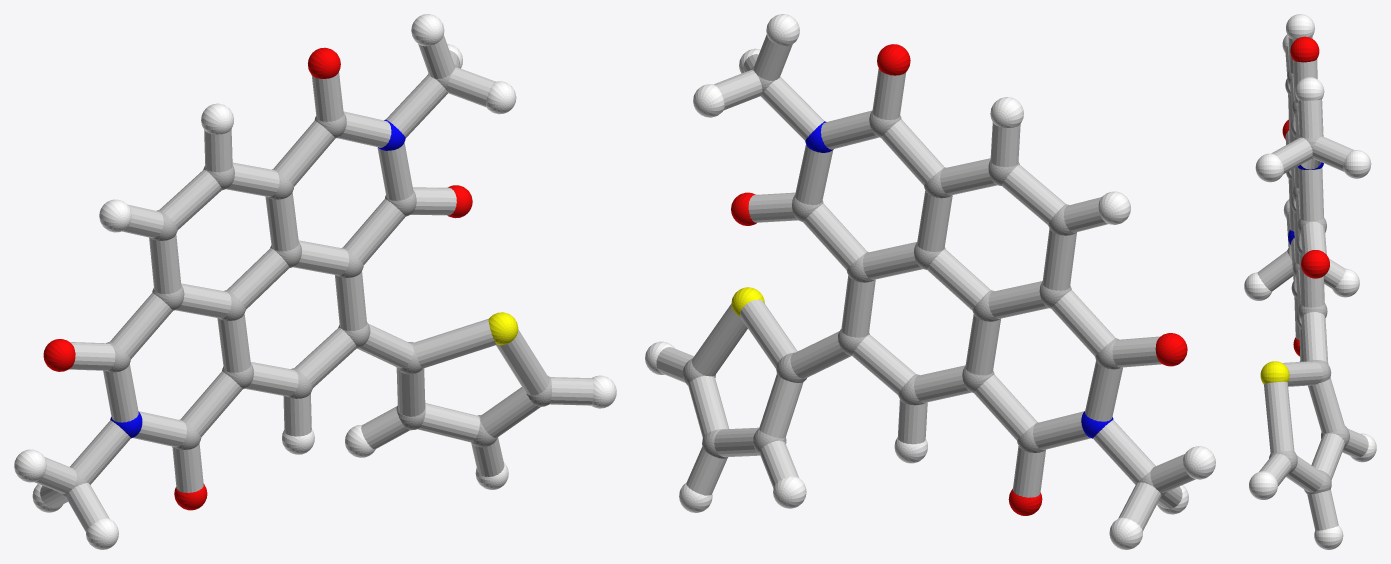
File: Dimethyl_Naphthalene_Dicarboximide_Phi_10_Theta_210_Thiophene.glb
3 renders of one model, left to right at view 1: azimuth 30°, elevation 25°; view 2: azimuth 150°, elevation 25°; view 3: azimuth 270°, elevation 25°, orthographic. The views are drawn at different scales.
Visible parts, largest first — view 1: grp14119, grp7241, grp1, grp12309, grp13757, grp11585; view 2: grp14119, grp7241, grp1, grp12309, grp11585; view 3: grp14119, grp7241, grp1, grp12309, grp13757.
Boxes of the visible parts, box(x1,y1,x2,y2) form: grp14119: box(34, 35, 593, 531); grp7241: box(14, 14, 616, 549); grp1: box(60, 64, 551, 497); grp12309: box(43, 47, 472, 510); grp13757: box(488, 312, 518, 345); grp11585: box(110, 119, 405, 438); grp14119: box(656, 35, 1195, 531); grp7241: box(645, 14, 1215, 549); grp1: box(682, 67, 1165, 496); grp12309: box(731, 44, 1187, 515); grp11585: box(805, 121, 1113, 438); grp14119: box(1257, 36, 1368, 530); grp7241: box(1244, 14, 1376, 549); grp1: box(1269, 70, 1349, 494); grp12309: box(1282, 36, 1329, 356); grp13757: box(1260, 361, 1289, 384).
Bounding box in the file's own units: 12.09 × 9.98 × 2.74.
